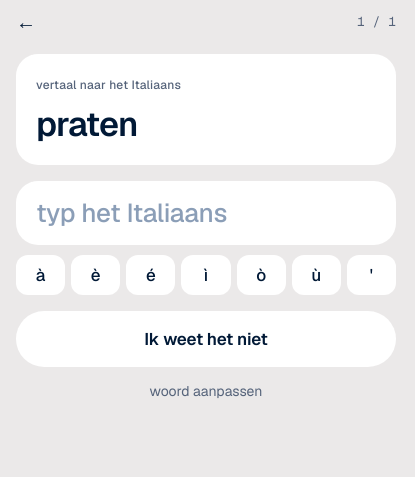
Test: Study – foute antwoorden worden niet overgeslagen › het woord aanpassen ("mijn antwoord overnemen") herbeoordeelt het antwoord meteen als goed
Type "parlare" into the field with placeholder "typ het Italiaans".
click(206, 213); type("parlare")  # box [16,181,396,245]
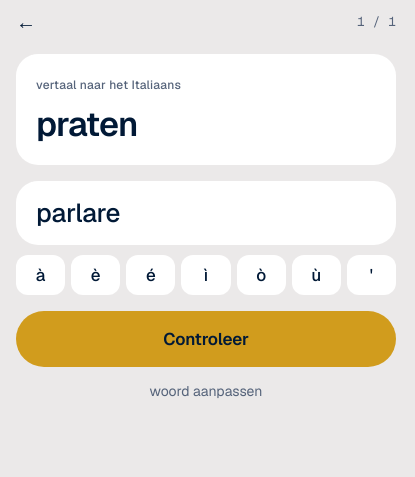
Click the button "Controleer".
click(206, 339)  # box [16,311,396,367]
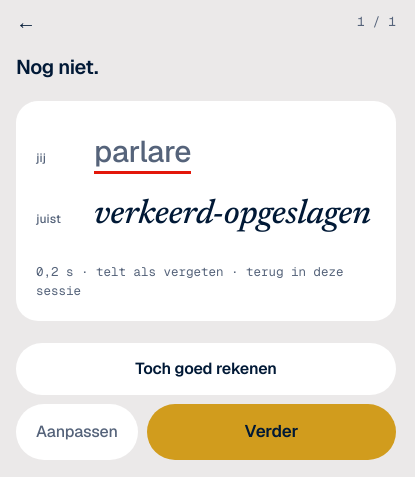
Expected: the heading "Nog niet." is shown, [16,54,98,80]
Click the button "Aanpassen".
click(77, 432)  # box [16,404,138,460]
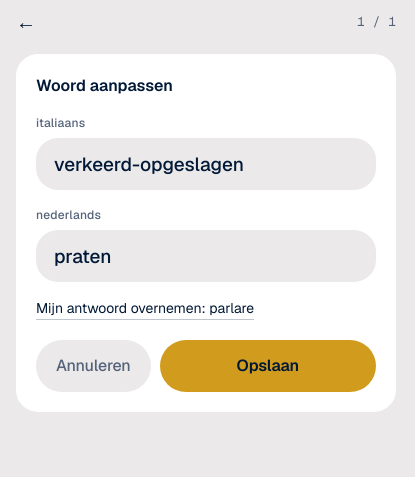
Click the button "Mijn antwoord overnemen: parlare".
click(145, 309)  # box [36,298,254,320]
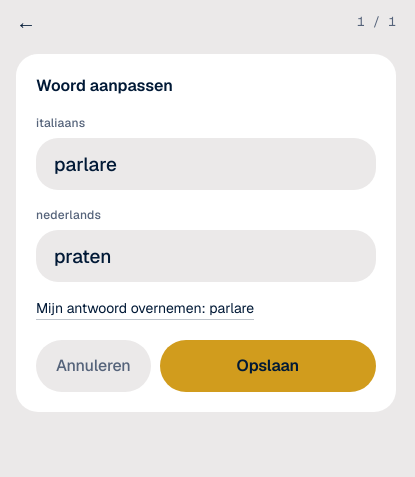
Click the button "Opslaan".
click(268, 366)  # box [160,340,376,392]
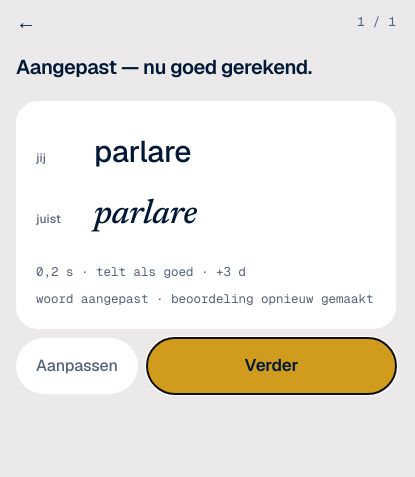
Expected: the button "Toch goed rekenen" is not shown
Expected: the heading "Aangepast — nu goed gerekend." is shown, [16,54,312,80]
